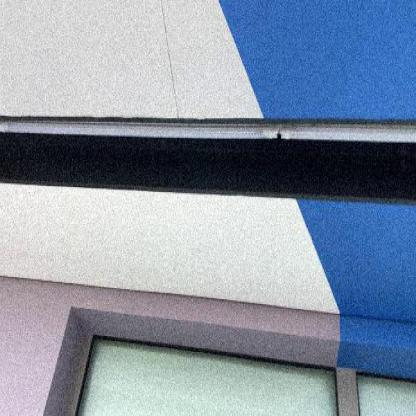light_off: (0, 79, 414, 172)
